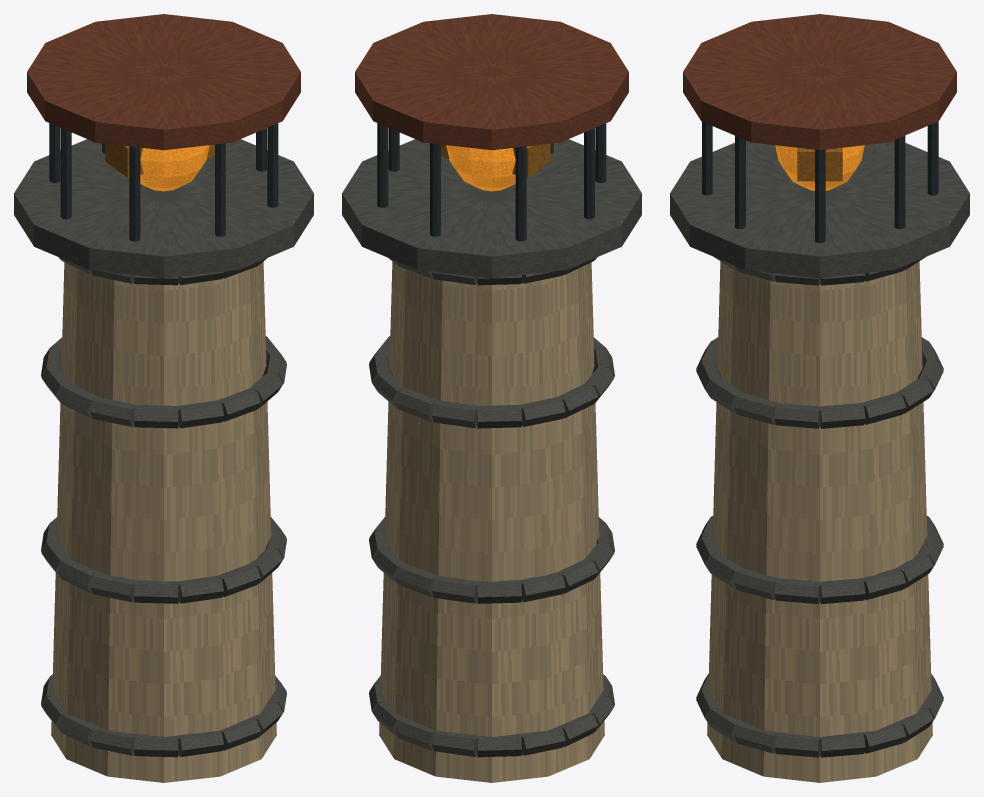
The model's file is L_lighthouse_beacon.gltf.
3 renders of one model, left to right at view 1: azimuth 30°, elevation 25°; view 2: azimuth 150°, elevation 25°; view 3: azimuth 270°, elevation 25°, orthographic.
Parts seen in each view (by area): view 1: root, rotating_lens; view 2: root, rotating_lens; view 3: root, rotating_lens.
Boxes of the visible parts, x1,y1,x2,y2 form: root: [14, 14, 313, 782]; rotating_lens: [105, 143, 214, 191]; root: [342, 14, 641, 782]; rotating_lens: [441, 143, 550, 191]; root: [670, 14, 969, 782]; rotating_lens: [775, 145, 864, 190].
Size of the model in its own units: 1.86 by 4.54 by 1.86.
Materials: 6 (6 with a texture image).
